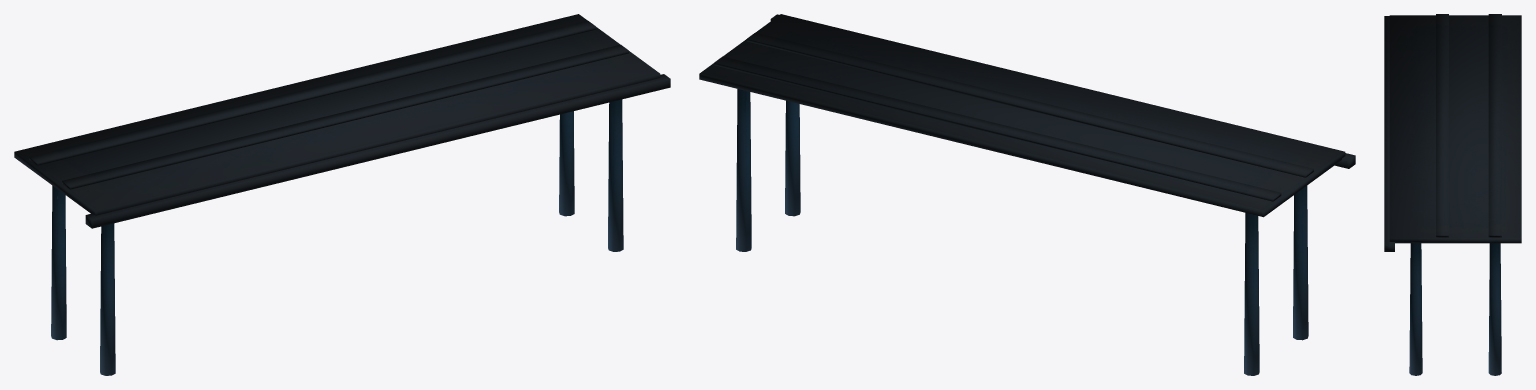
File: dock-canopy-structure-tripo-original.glb
3 views of the same model, side by side, from view 1: azimuth 30°, elevation 25°; view 2: azimuth 150°, elevation 25°; view 3: azimuth 270°, elevation 25° (orthographic). The views are drawn at different scales.
Visible parts, largest first — view 1: Authored_surface_071; view 2: Authored_surface_071; view 3: Authored_surface_071.
Boxes of the visible parts, bbox=[...] form: Authored_surface_071: bbox=[14, 14, 670, 375]; Authored_surface_071: bbox=[699, 14, 1355, 375]; Authored_surface_071: bbox=[1384, 14, 1521, 375].
Size of the model in its own units: 1 by 0.3024 by 0.2537.
Materials: 1 (1 with a texture image).
